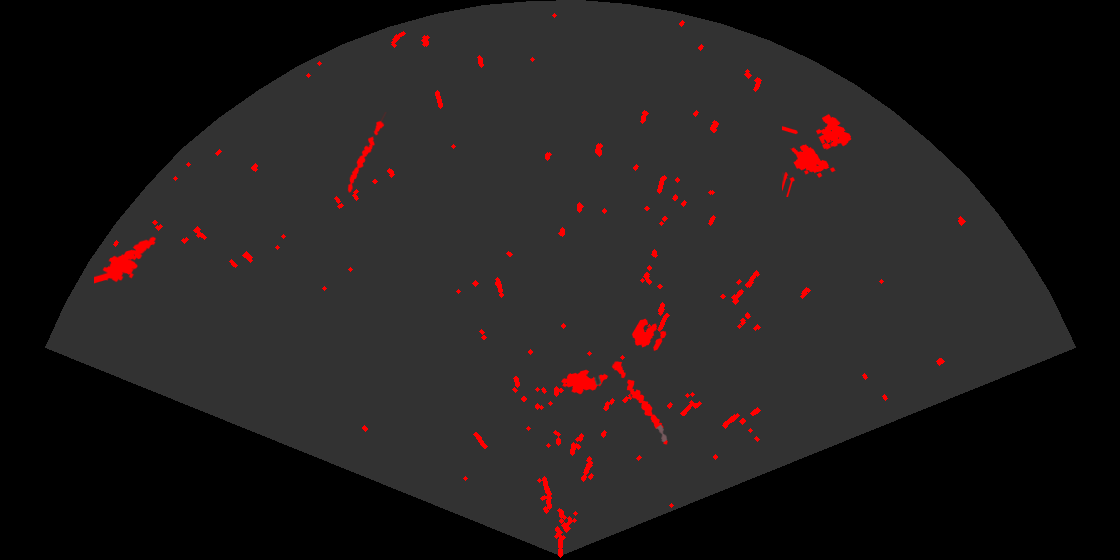AUV: (560, 368, 610, 396)
ball: (630, 317, 668, 353)
cage: (782, 112, 853, 197)
chain: (610, 360, 669, 446), (346, 112, 388, 195)
frogman: (94, 235, 158, 285)
